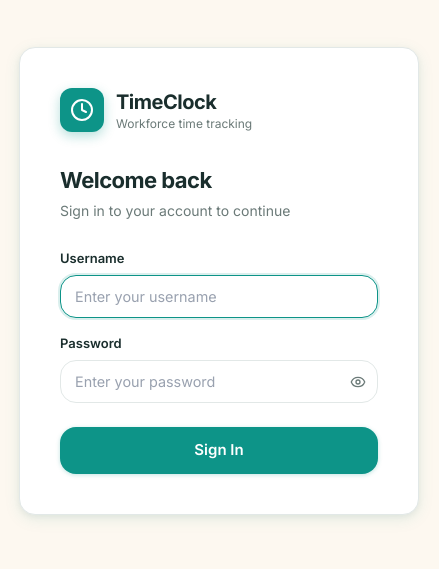
Test: LoginPage › failed login displays the backend error message
Step 1. Type "admin" into the field labelled "Username" → (219, 296), box [60,275,378,318]
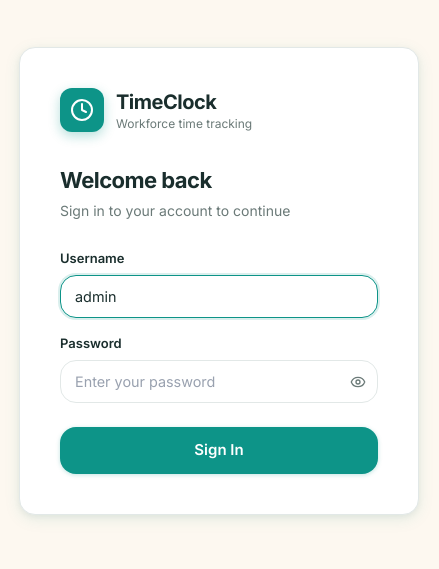
Step 2. Type "wrongpass" into the password field labelled "Password" → (219, 382), box [60,360,378,403]
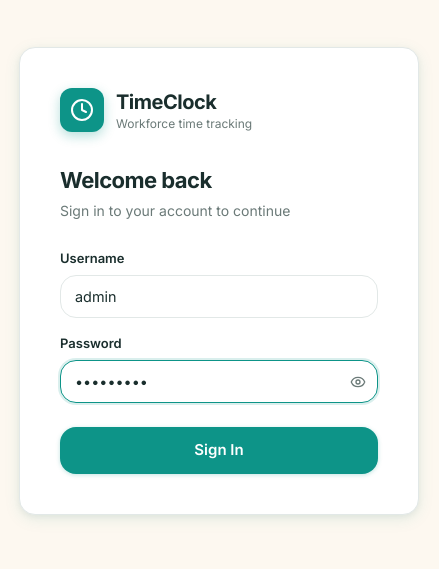
Step 3. Click the button "Sign In" → (219, 451), box [60,427,378,474]
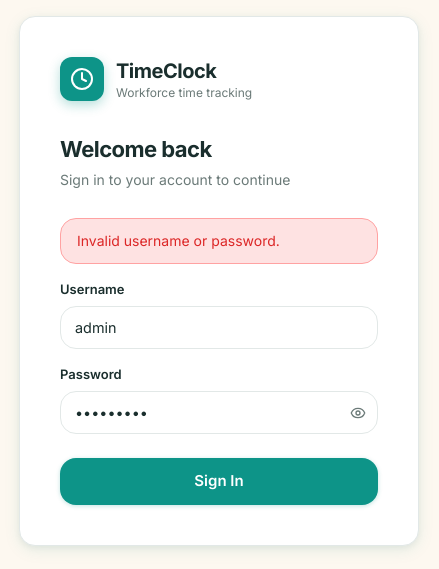
Check: the message reads "Invalid username or password.", box [77,232,280,249]
